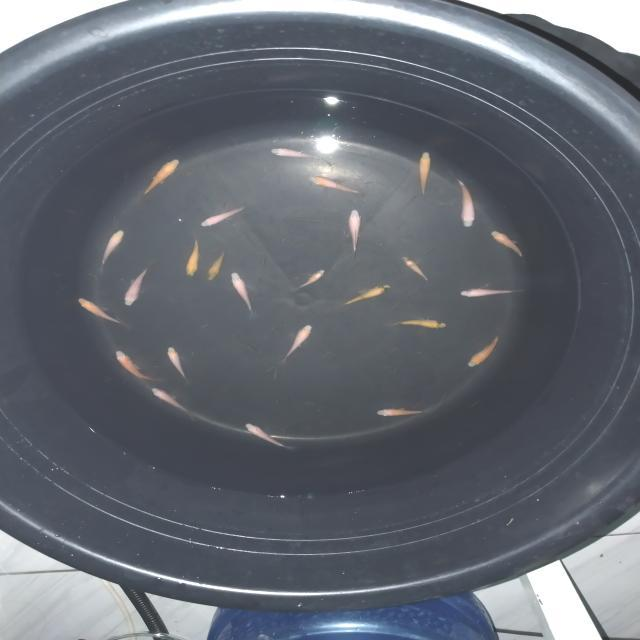nila: (136, 156, 184, 200), (74, 292, 131, 328), (146, 382, 197, 422), (240, 420, 297, 452), (123, 260, 158, 309), (276, 323, 315, 366), (306, 173, 368, 200), (488, 226, 530, 263), (338, 283, 394, 310), (464, 334, 507, 369), (227, 270, 257, 320), (195, 204, 254, 229), (115, 347, 156, 382), (95, 228, 126, 273), (457, 282, 533, 300), (265, 146, 333, 166), (453, 175, 476, 232), (396, 250, 430, 286), (165, 343, 192, 388), (414, 148, 436, 202), (182, 232, 207, 278), (346, 206, 366, 258), (204, 243, 228, 284), (374, 404, 432, 419), (298, 267, 330, 294), (390, 318, 450, 331)
